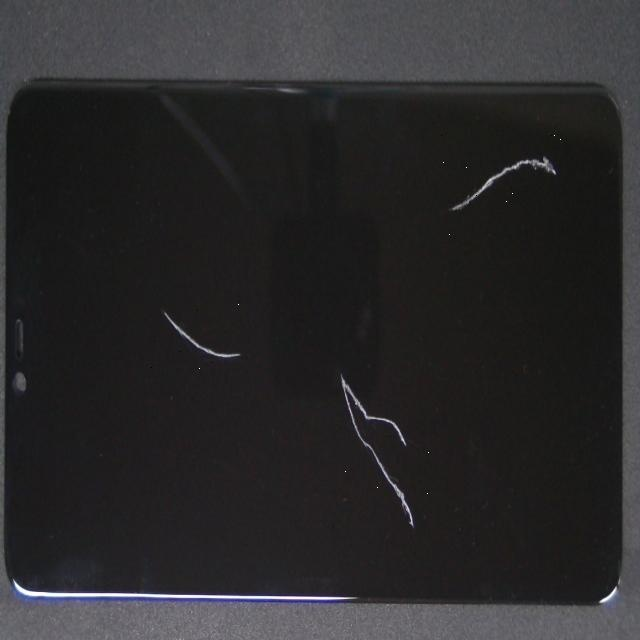scratch: (174, 153, 506, 578), (211, 82, 640, 317), (83, 126, 226, 460)
